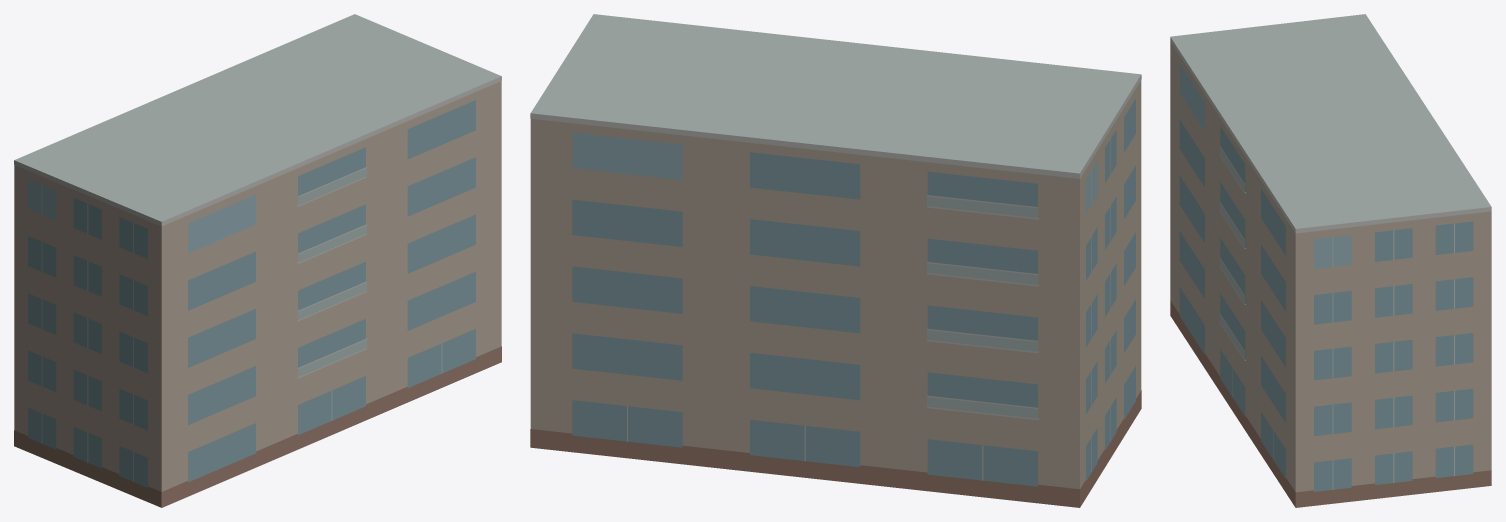
The model's file is survey-upis-32562393.glb.
The picture shows the model from 3 angles, left to right: view 1: azimuth 30°, elevation 25°; view 2: azimuth 150°, elevation 25°; view 3: azimuth 270°, elevation 25°; orthographic projection. The views are drawn at different scales.
Visible parts, largest first — view 1: survey-upis-32562393.tmp; view 2: survey-upis-32562393.tmp; view 3: survey-upis-32562393.tmp.
Part boxes in pixels (x1,y1,x2,y2): survey-upis-32562393.tmp: [14, 14, 501, 507]; survey-upis-32562393.tmp: [530, 14, 1141, 507]; survey-upis-32562393.tmp: [1170, 14, 1491, 507].
Size of the model in its own units: 25.22 by 15.25 by 15.94.
